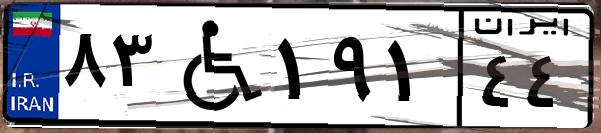1: (270, 28, 330, 110), (385, 28, 445, 110)
3: (110, 28, 158, 98)
4: (475, 38, 525, 113), (525, 38, 570, 115)
8: (57, 26, 110, 100)
9: (330, 28, 385, 110)
ژ (معلولین و جانبازان): (158, 12, 270, 120)
